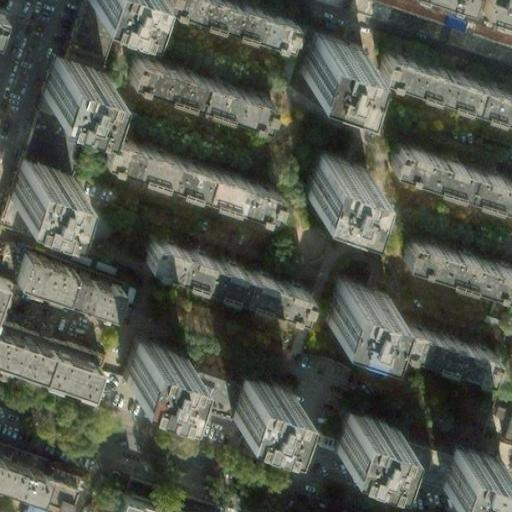building: (100, 131, 278, 211), (140, 233, 304, 313), (327, 0, 512, 61), (124, 54, 267, 121), (379, 43, 512, 110), (386, 137, 512, 201), (371, 306, 491, 367), (399, 229, 512, 288), (6, 250, 110, 309), (322, 430, 440, 479), (166, 0, 291, 41), (218, 367, 283, 427), (34, 52, 96, 113), (323, 400, 387, 459), (114, 333, 179, 391), (297, 147, 361, 205), (316, 274, 381, 331), (296, 30, 359, 87), (430, 438, 493, 495), (15, 98, 62, 166), (165, 363, 228, 410), (0, 441, 65, 474), (106, 491, 175, 512), (0, 454, 36, 488), (28, 466, 62, 499), (481, 0, 512, 18)
